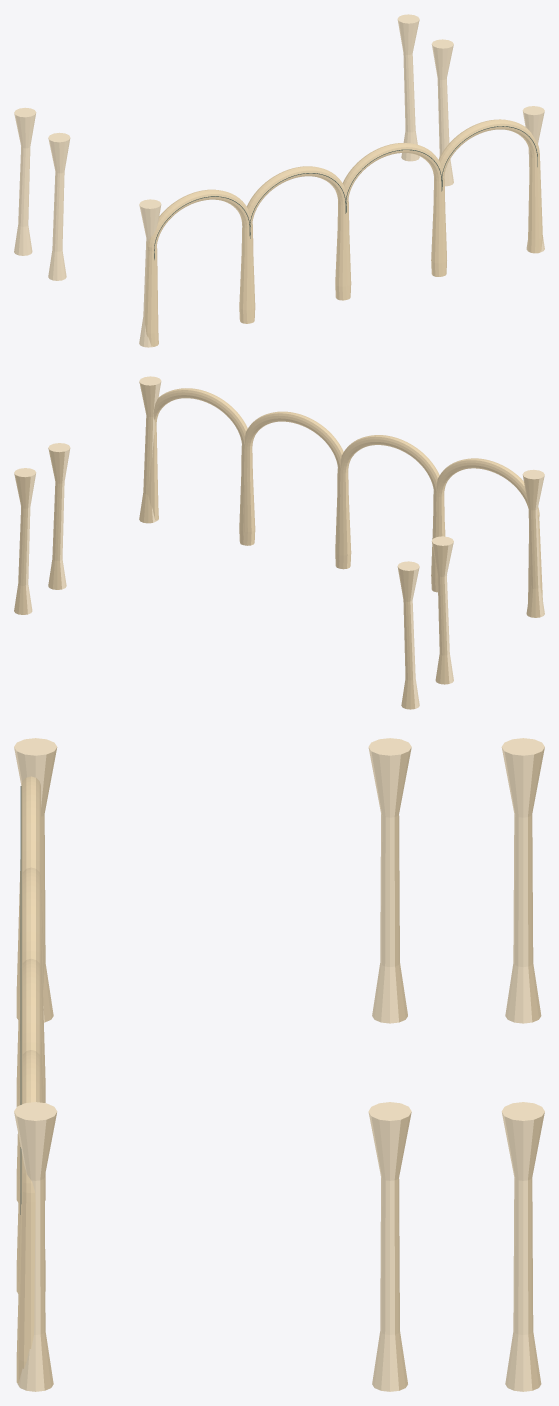
File: storey-facade-v2.glb
3 views of the same model, one above another, from view 1: azimuth 30°, elevation 25°; view 2: azimuth 150°, elevation 25°; view 3: azimuth 270°, elevation 25° (orthographic). The views are drawn at different scales.
Visible parts, largest first — view 1: TG02_FACADE; view 2: TG02_FACADE; view 3: TG02_FACADE.
Part boxes in pixels (x1,y1,x2,y2): TG02_FACADE: [14, 14, 544, 347]; TG02_FACADE: [14, 376, 544, 709]; TG02_FACADE: [14, 738, 544, 1391].
Size of the model in its own units: 20.1 by 6.71 by 11.76.
